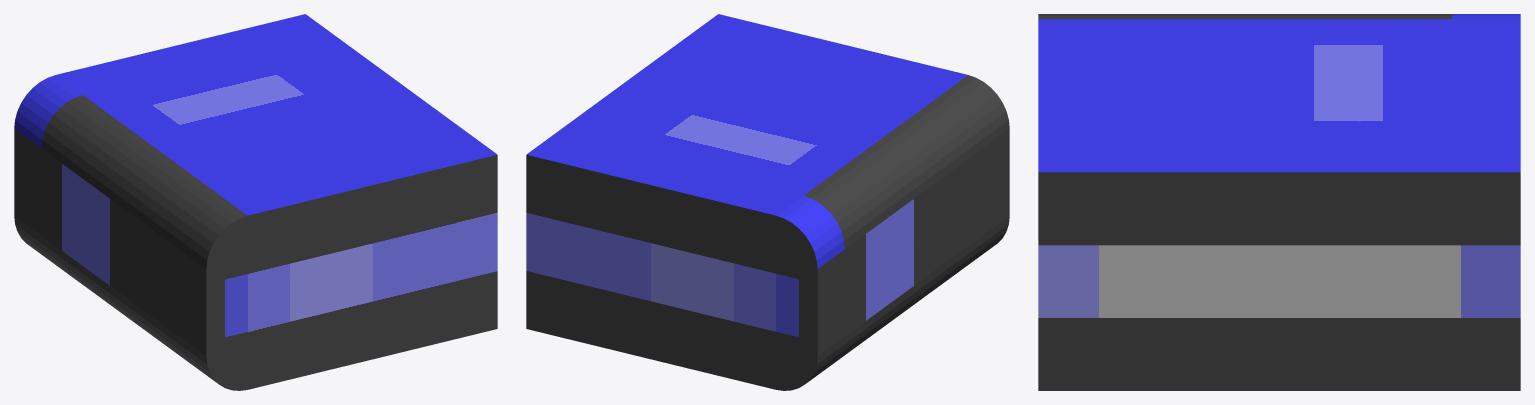
File: book_642x13.obj
3 renders of one model, left to right at view 1: azimuth 30°, elevation 25°; view 2: azimuth 150°, elevation 25°; view 3: azimuth 270°, elevation 25°, orthographic. The views are drawn at different scales.
Visible parts, largest first — view 1: Cube.001; view 2: Cube.001; view 3: Cube.001.
Boxes of the visible parts, box(x1,y1,x2,y2) form: Cube.001: box(14, 14, 497, 390); Cube.001: box(526, 14, 1009, 390); Cube.001: box(1038, 14, 1520, 390).
Size of the model in its own units: 0.875 by 0.5 by 1.
